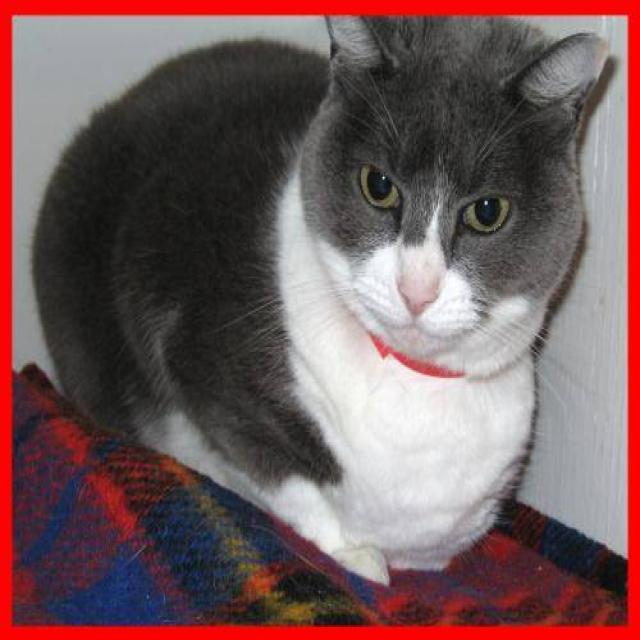cat: (29, 13, 610, 588)
